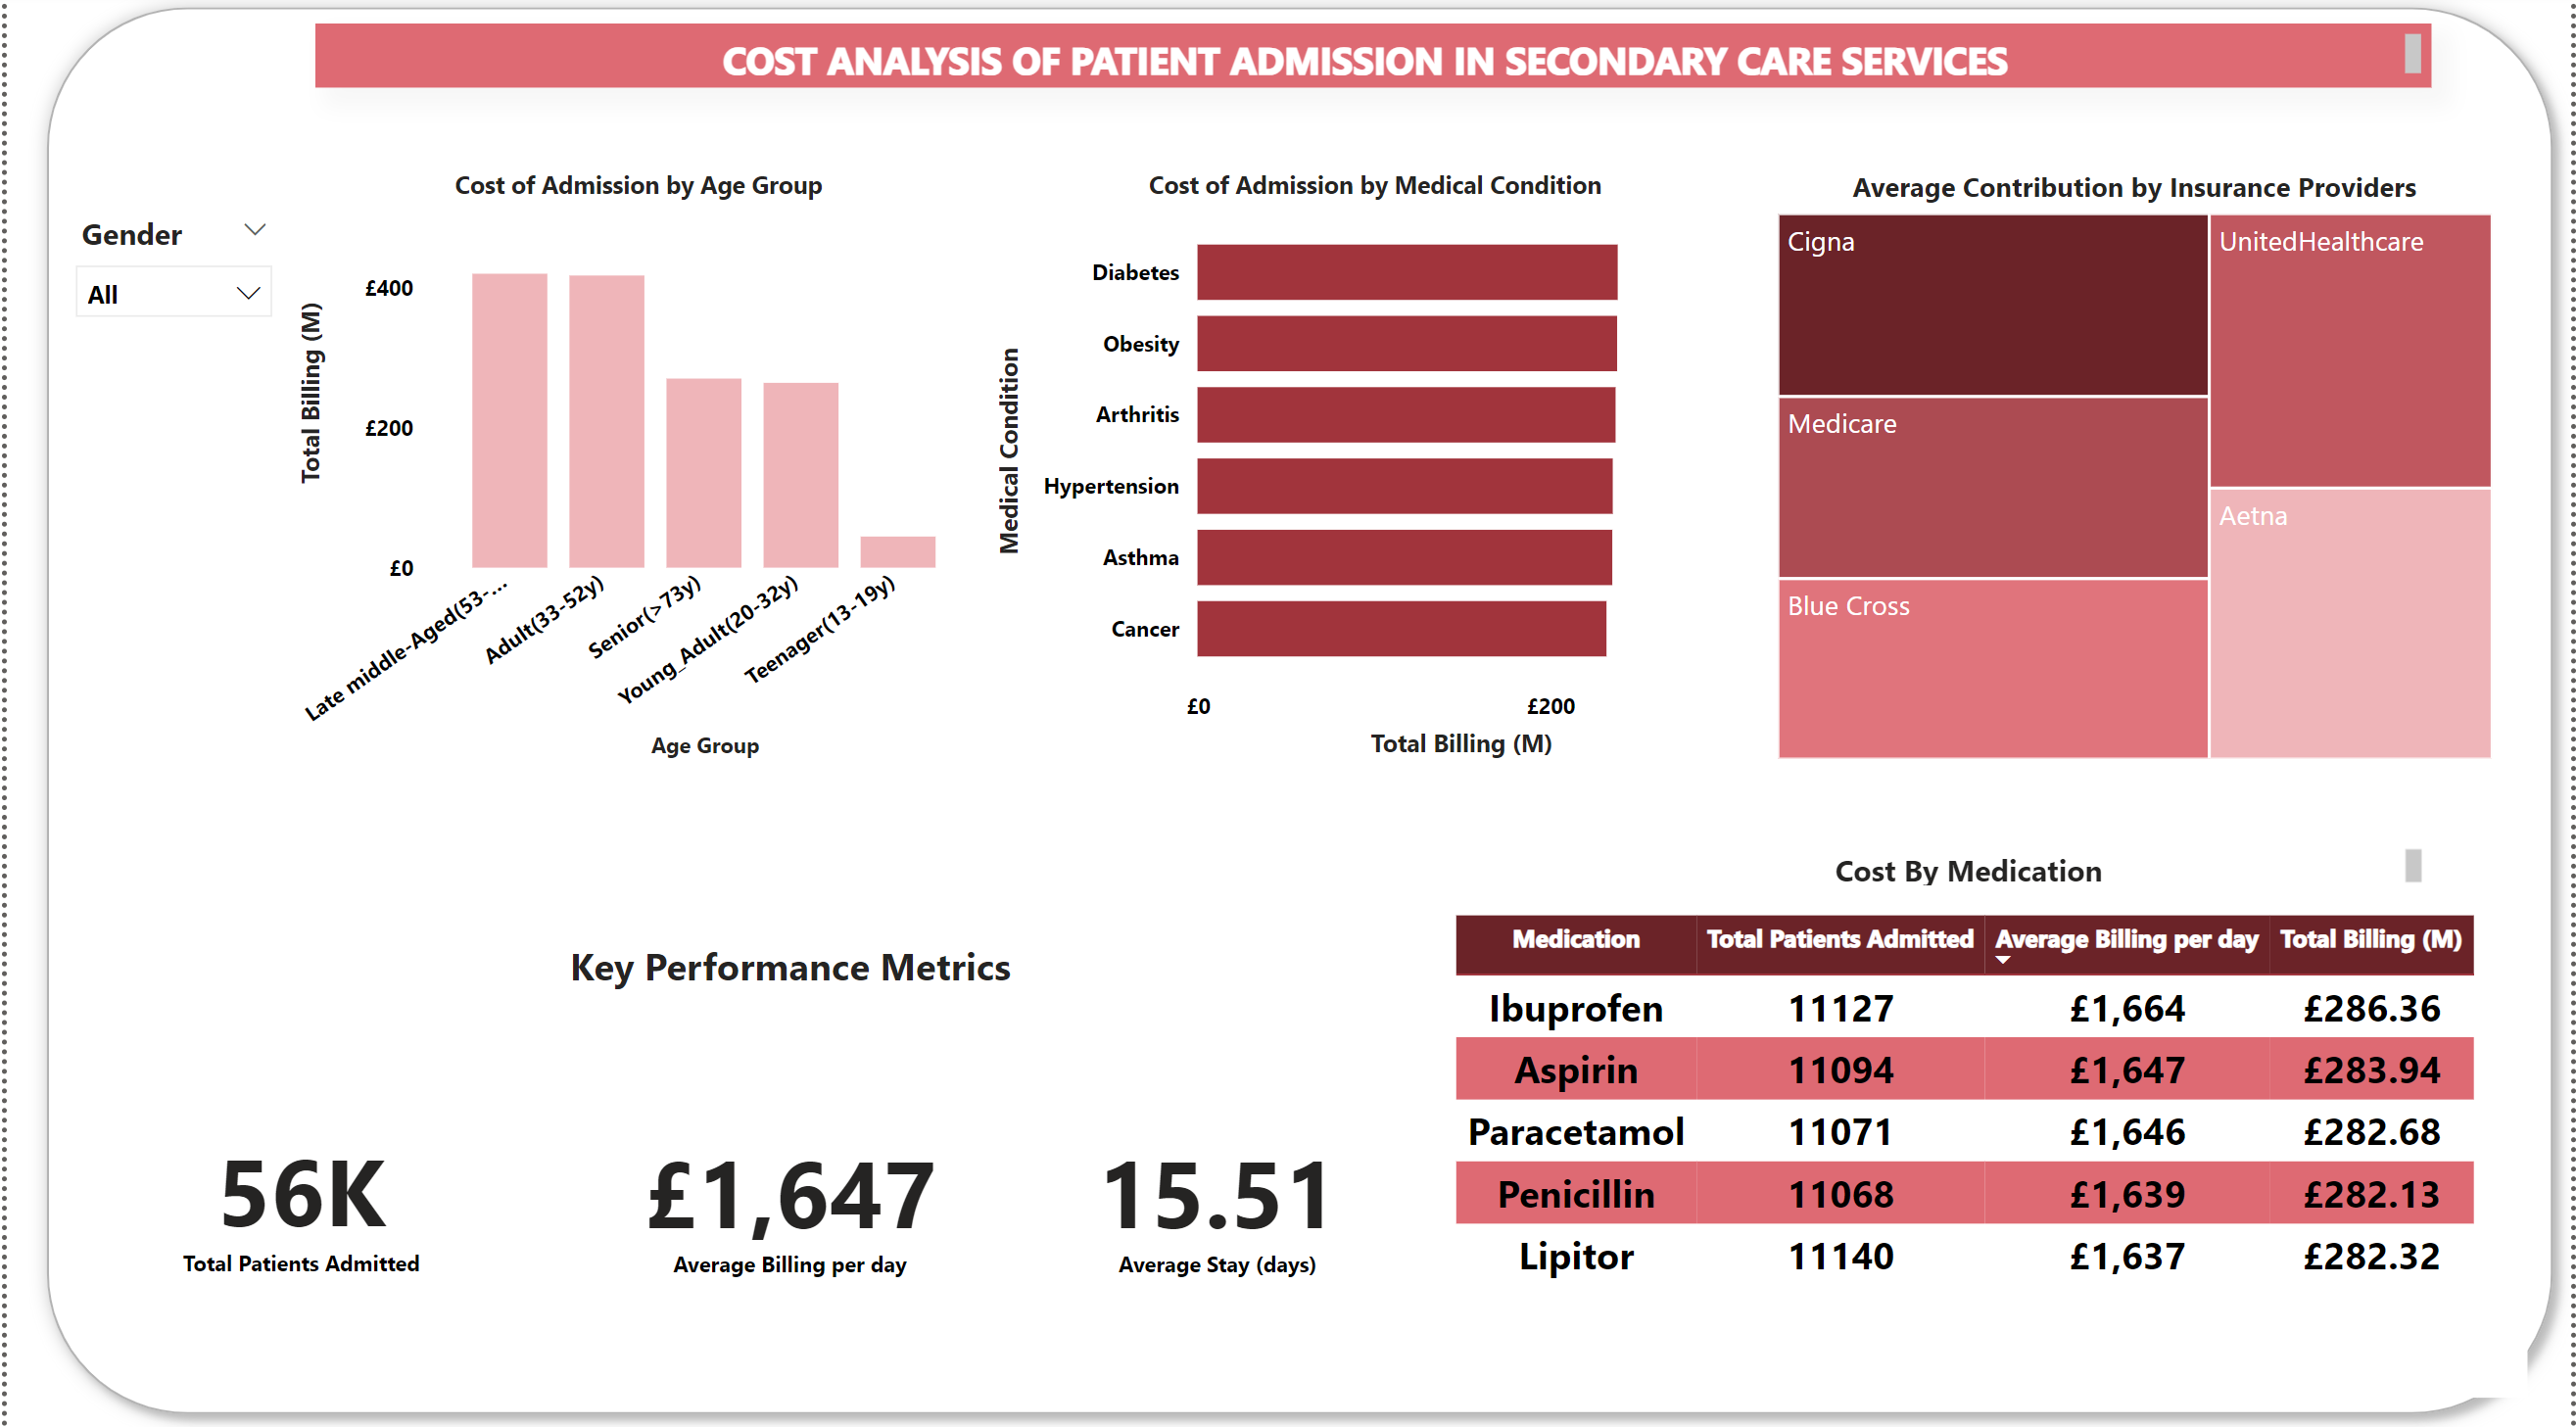

The page's visual inventory and layout, read from the dashboard file:
{"tool":"powerbi","page":{"name":"CostAnalysis","canvas":[1280,720],"ordinal":0},"visuals":[{"type":"shape","box":[11.5,0,1269,720.4],"z":0},{"type":"textbox","box":[153.8,16.7,1056.2,32],"z":1000},{"type":"treemap","title":"Average Contribution by Insurance Providers","fields":{"Group":["health_care_adm_view.Insurance_Provider","health_care_adm_view.Medical_Condition","health_care_adm_view.Age_Group"],"Values":["CalculationTable.Total Billing (M)"]},"box":[879,89,366.6,299.9],"z":2000},{"type":"clusteredBarChart","title":"Cost of Admission by Medical Condition","fields":{"Category":["health_care_adm_view.Medical_Condition","health_care_adm_view.Age_Group"],"Y":["CalculationTable.Total Billing (M)"]},"box":[489.6,89,385.8,299.9],"z":3000},{"type":"clusteredColumnChart","title":"Cost of Admission by Age Group","fields":{"Category":["health_care_adm_view.Age_Group"],"Y":["CalculationTable.Total Billing (M)"]},"box":[142,89,347.4,299.9],"z":4000},{"type":"tableEx","fields":{"Values":["health_care_adm_view.Medication","CalculationTable.Total Patients Admitted","CalculationTable.Average Billing per day","CalculationTable.Total Billing (M)"]},"box":[717.8,457.6,540.9,246.1],"z":5000},{"type":"card","fields":{"Values":["CalculationTable.Total Patients Admitted"]},"box":[24.4,506.3,244.8,198.7],"z":6000},{"type":"card","fields":{"Values":["CalculationTable.Average Billing per day"]},"box":[269.2,507.6,243.5,197.4],"z":7000},{"type":"card","fields":{"Values":["CalculationTable.Average Stay (days)"]},"box":[489.6,507.6,228.2,197.4],"z":8000},{"type":"textbox","box":[88.4,469.1,606.3,37.2],"z":9000},{"type":"textbox","box":[756.3,424.3,453.8,28.2],"z":10000},{"type":"slicer","fields":{"Values":["health_care_adm_view.Gender"]},"box":[24.4,106.4,117.9,65.4],"z":11000}]}

Visuals, with their boxes in screenshot pixels (x1, y1, x2, y2), scaled from the page's 1280x720 canvas onto the 2576x1427 screenshot:
shape: [24, 0, 2575, 1426]
textbox: [310, 33, 2435, 97]
"Average Contribution by Insurance Providers" treemap: [1769, 176, 2506, 771]
"Cost of Admission by Medical Condition" clusteredBarChart: [985, 176, 1762, 771]
"Cost of Admission by Age Group" clusteredColumnChart: [286, 176, 985, 771]
tableEx - health_care_adm_view.Medication x CalculationTable.Total Patients Admitted: [1445, 907, 2533, 1395]
card - CalculationTable.Total Patients Admitted: [49, 1004, 542, 1398]
card - CalculationTable.Average Billing per day: [542, 1006, 1031, 1398]
card - CalculationTable.Average Stay (days): [985, 1006, 1445, 1398]
textbox: [178, 929, 1398, 1004]
textbox: [1522, 841, 2435, 897]
slicer - health_care_adm_view.Gender: [49, 211, 286, 341]
